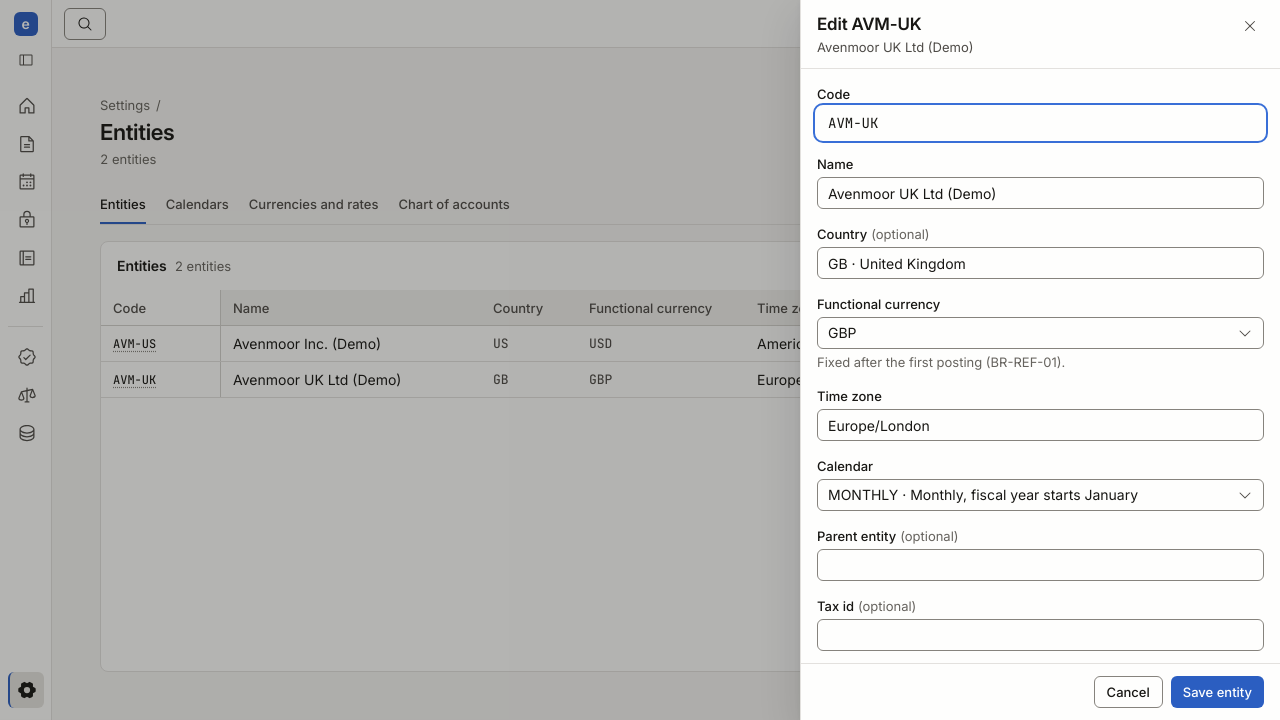
Test: SF-15:entities › Edit <code> patches the changed fields with If-Match and saves a changed book
The image size is (1280, 720).
Replace the text in the field labelled "Name" with "Avenmoor UK Limited" at (1040,193), box [817,177,1264,209]
(page scrolled)
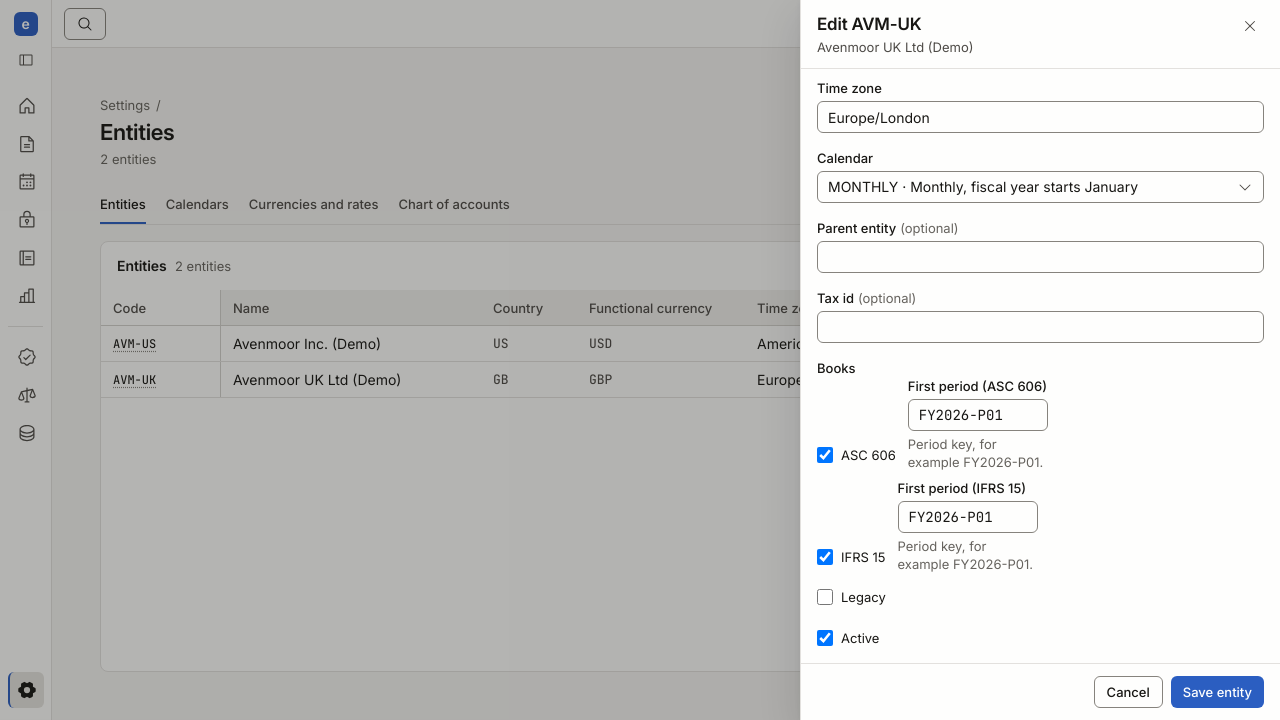
Click the checkbox labelled "Legacy" at (825,597), box [817,589,833,605]
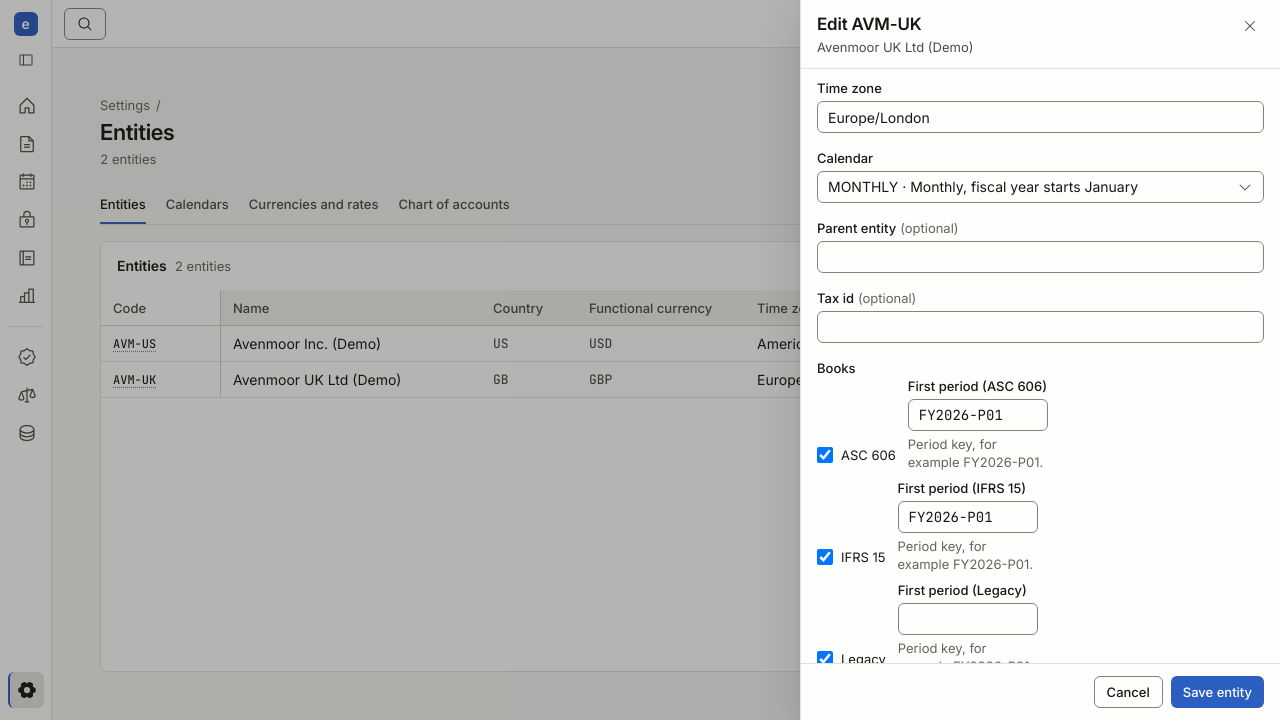
Type "FY2026-P07" into the field labelled "First period (Legacy)" at (968,619), box [898,603,1038,635]
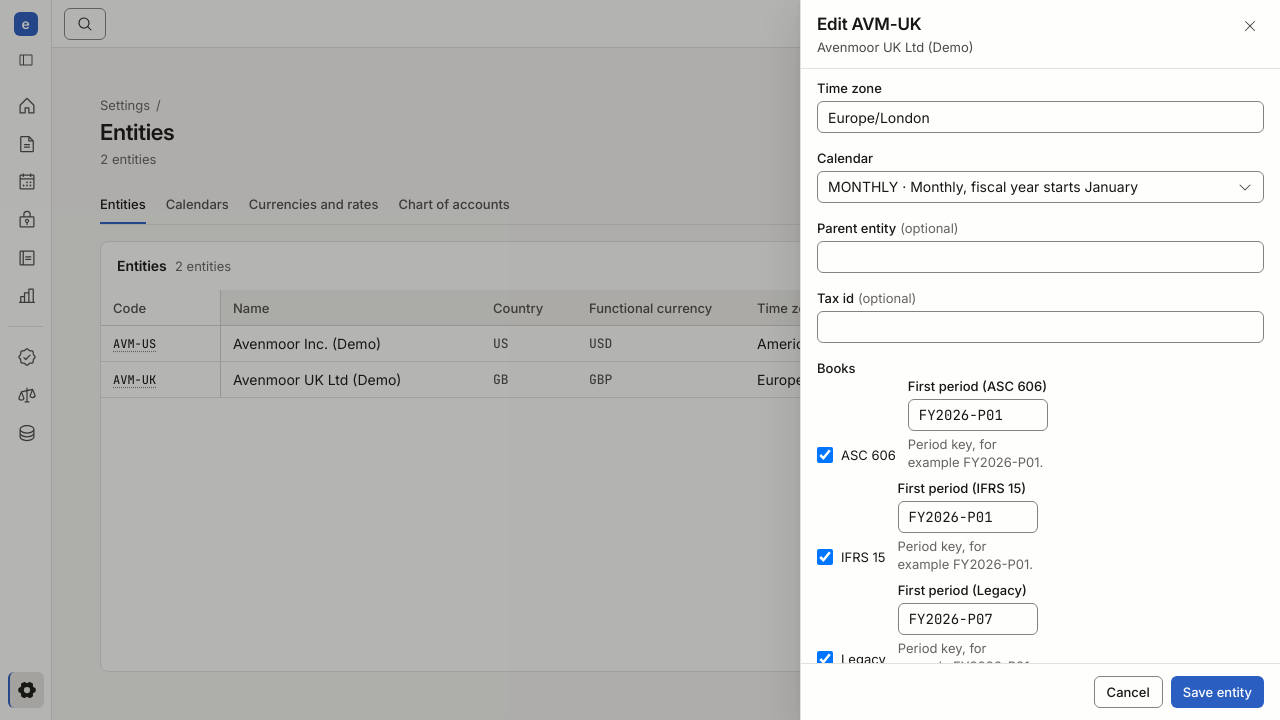
Click the button "Save entity" at (1217,692), box [1171,676,1264,708]
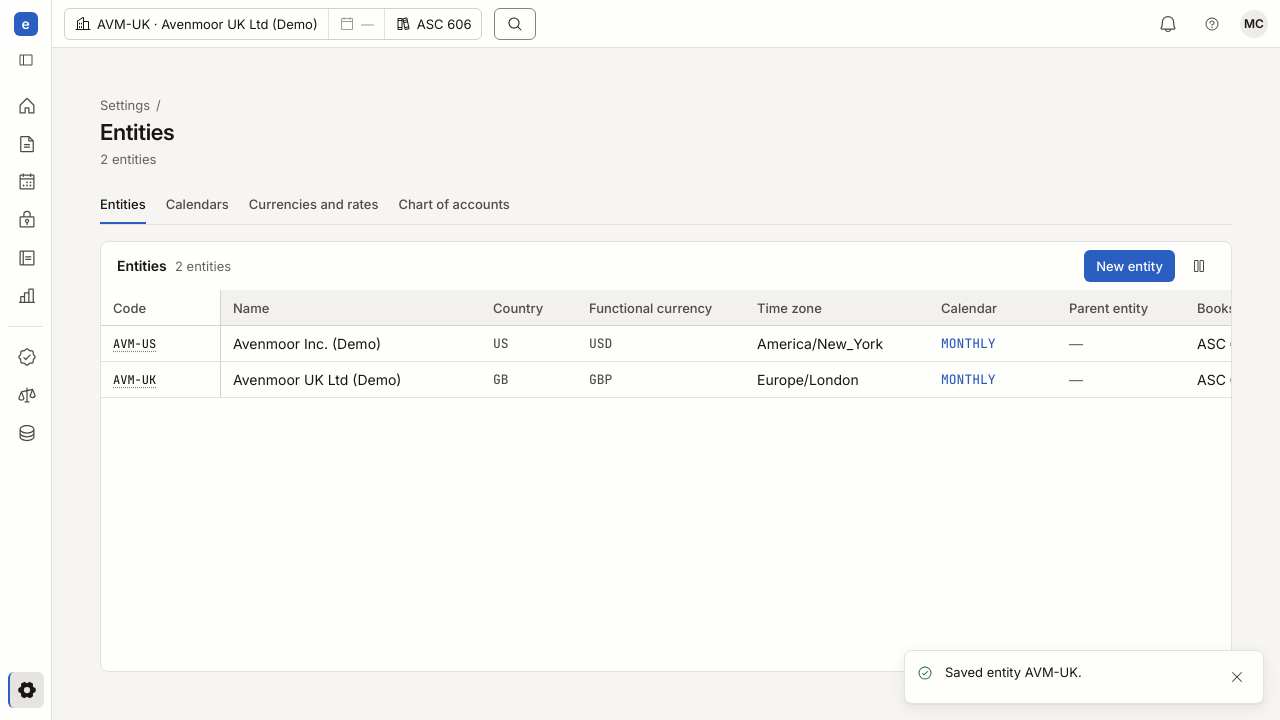
Expected: the text "Saved entity AVM-UK." is shown, [945,663,1082,681]
